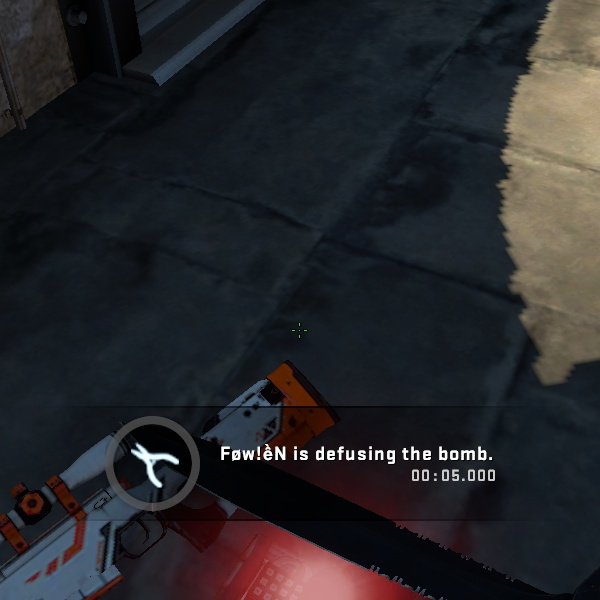t_head: (8, 4, 600, 462)
